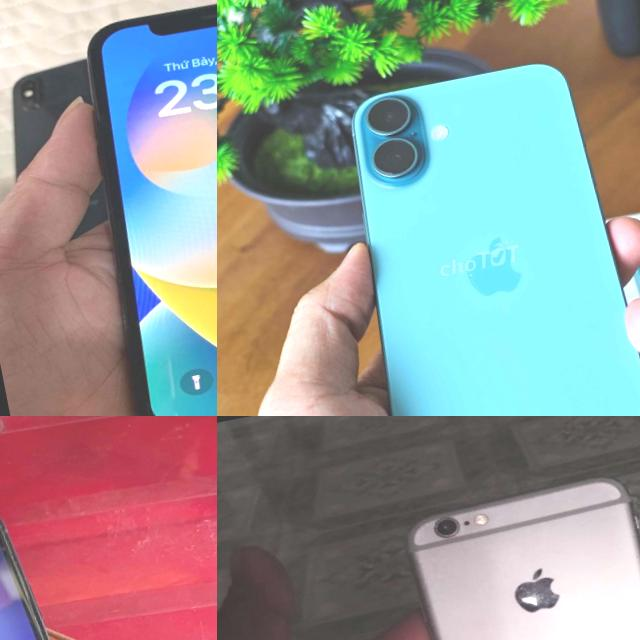gen_12_13: (0, 482, 144, 640)
gen_16: (306, 43, 640, 416)
gen_6: (393, 461, 640, 640)
gen_x_xs: (62, 0, 217, 416)
